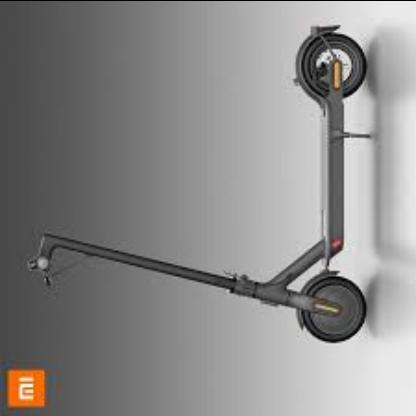bike: (25, 27, 374, 346), (26, 231, 368, 344)
